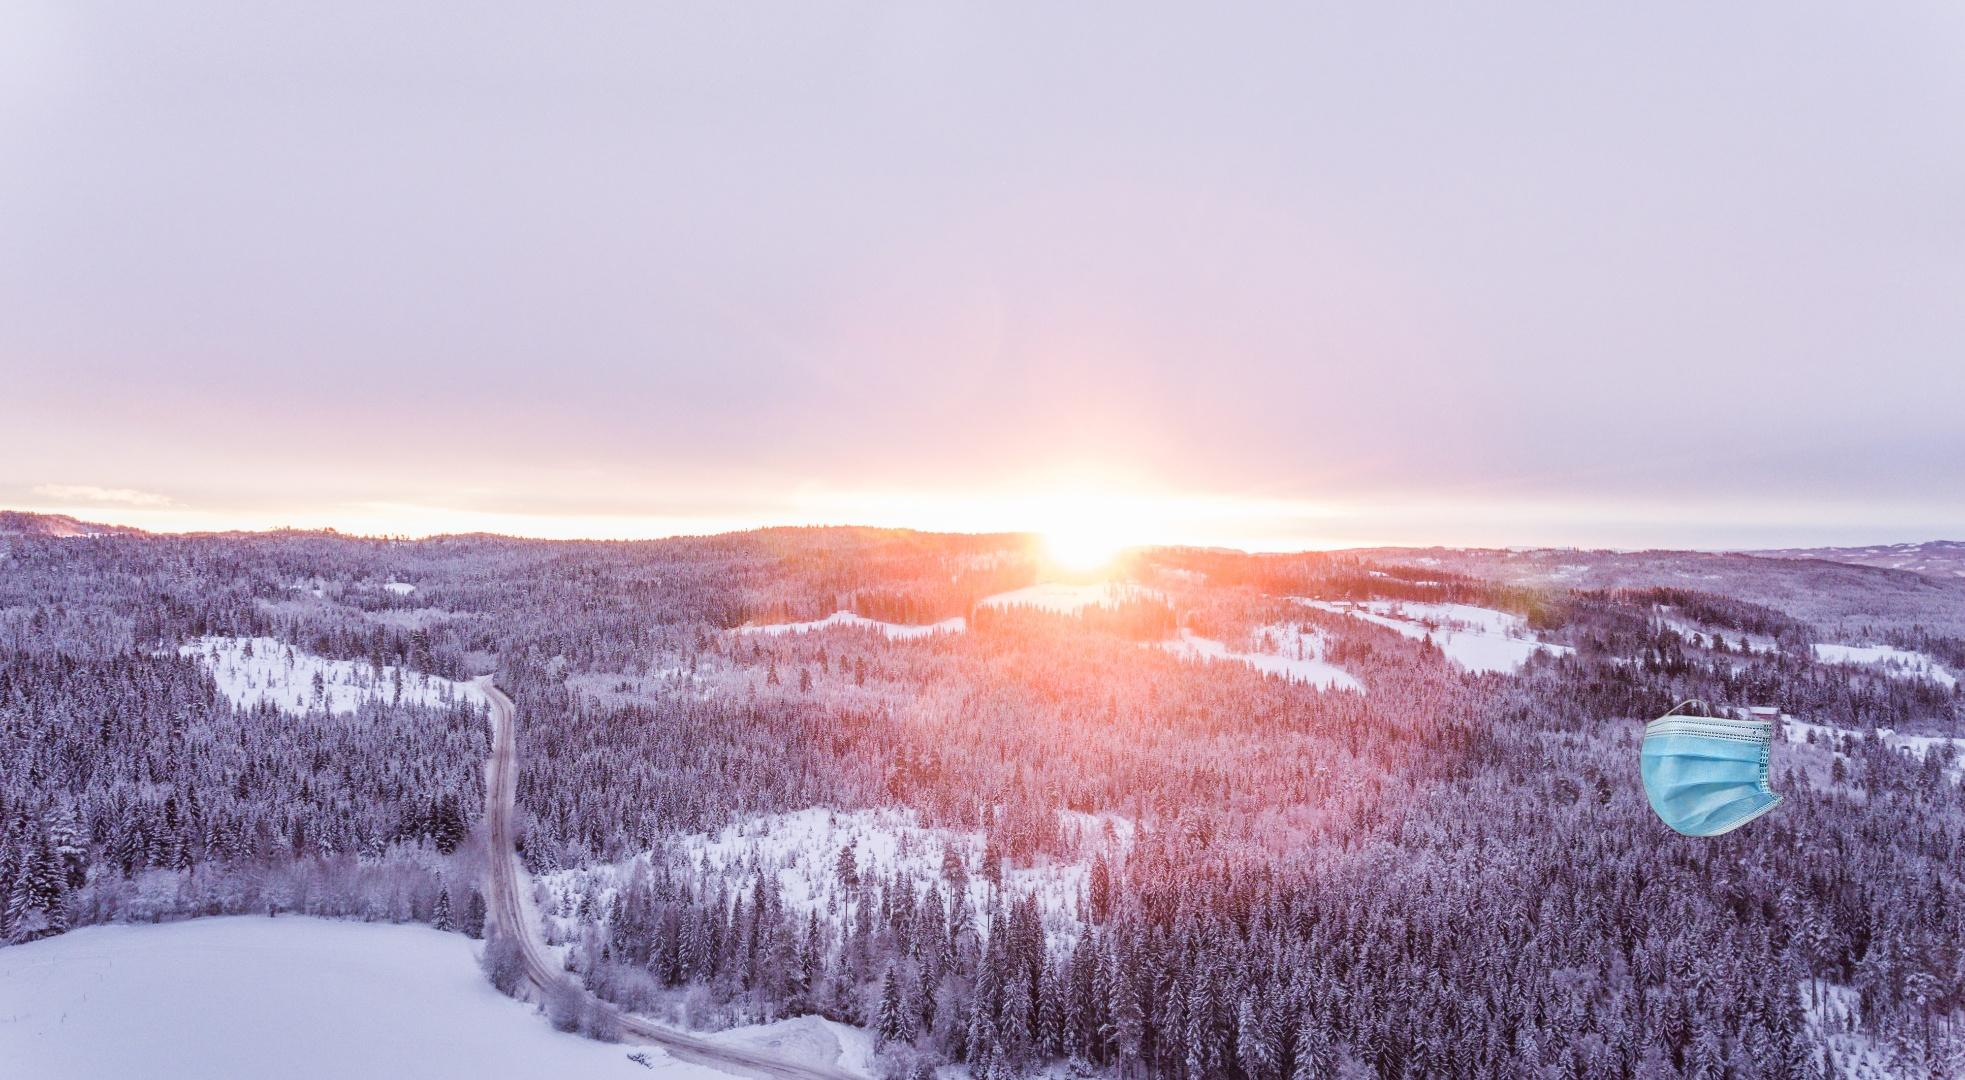trash: (1637, 696, 1788, 841)
